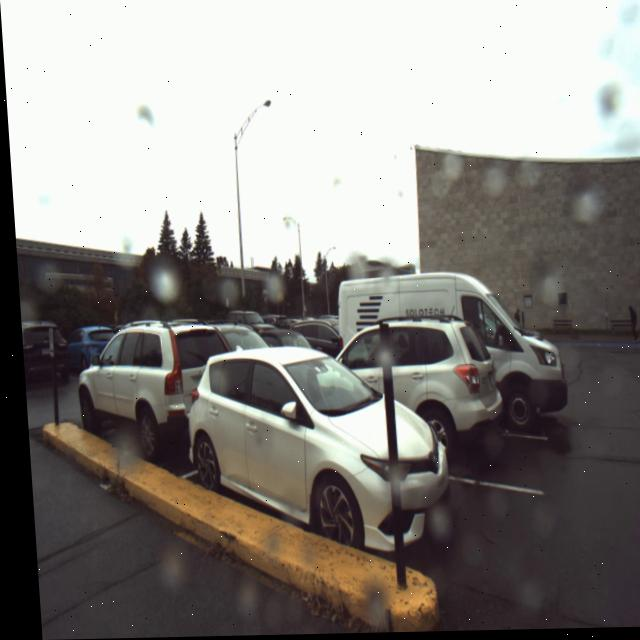car: (189, 357, 433, 554), (327, 324, 498, 419)
